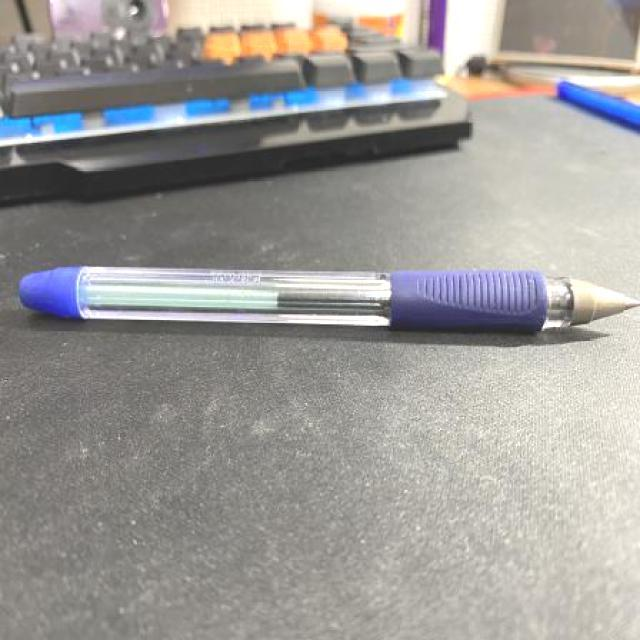pen: (15, 263, 638, 331)
